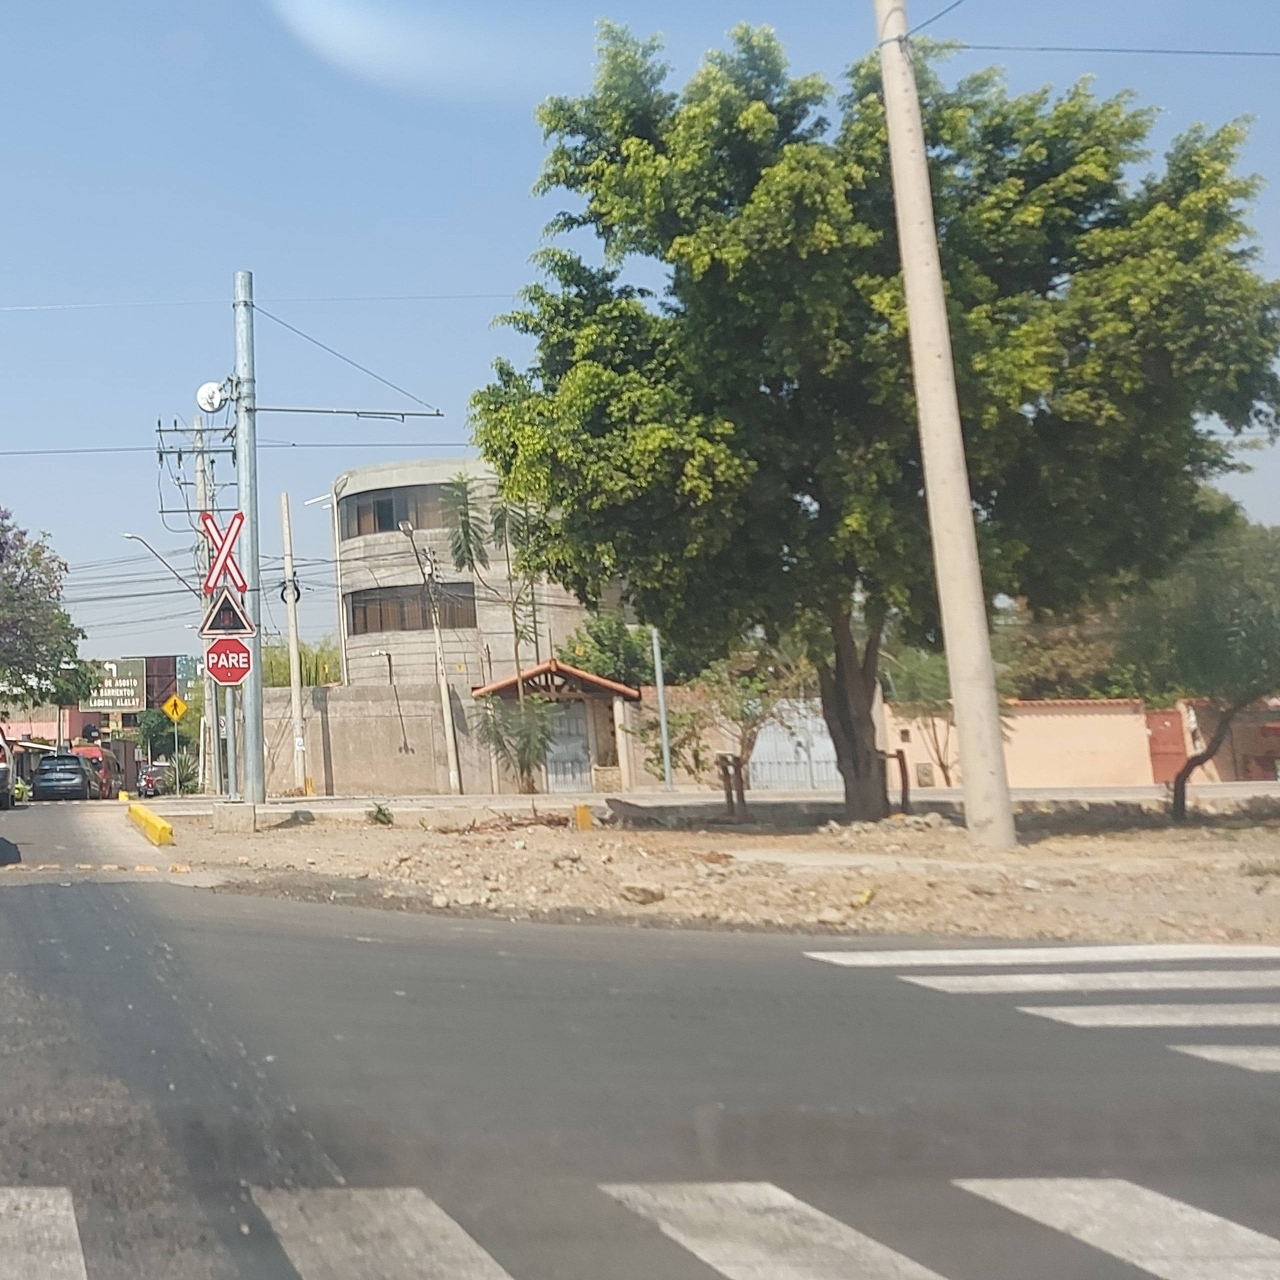pare: (207, 634, 253, 687)
